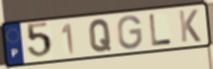1: (61, 22, 75, 55)
5: (25, 21, 55, 62)
G: (117, 14, 144, 51)
K: (177, 8, 202, 44)
L: (148, 13, 173, 47)
Q: (88, 18, 113, 53)
